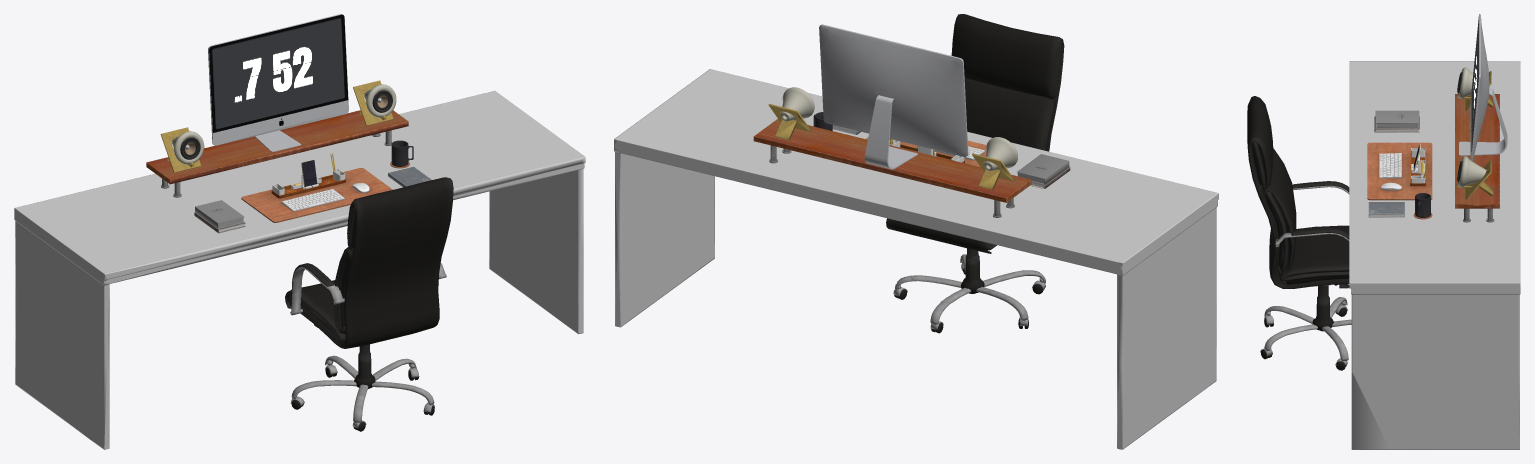
File: pc_desk_set.glb
3 renders of one model, left to right at view 1: azimuth 30°, elevation 25°; view 2: azimuth 150°, elevation 25°; view 3: azimuth 270°, elevation 25°, orthographic. The views are drawn at different scales.
Parts seen in each view (by area): view 1: Table, Chair, Display, Table_Top, Table_Desk, Speaker_01, Speaker_02, Book_03, Keyboard; view 2: Table, Chair, Display, Table_Top, Speaker_01, Speaker_02, Book_03; view 3: Table, Chair, Table_Top, Table_Desk, Display, Speaker_01, Book_03, Keyboard, Speaker_02, Book_01, Cup.
Boxes of the visible parts, bbox=[...] form: Table: bbox=[14, 91, 585, 449]; Chair: bbox=[285, 177, 453, 431]; Display: bbox=[208, 14, 348, 151]; Table_Top: bbox=[146, 110, 408, 184]; Table_Desk: bbox=[241, 168, 392, 222]; Speaker_01: bbox=[353, 80, 396, 125]; Speaker_02: bbox=[160, 127, 204, 172]; Book_03: bbox=[195, 200, 244, 228]; Keyboard: bbox=[281, 189, 344, 211]; Table: bbox=[614, 69, 1218, 449]; Chair: bbox=[886, 14, 1064, 333]; Display: bbox=[819, 24, 968, 169]; Table_Top: bbox=[753, 119, 1031, 202]; Speaker_01: bbox=[768, 87, 814, 140]; Speaker_02: bbox=[972, 137, 1017, 189]; Book_03: bbox=[1017, 154, 1069, 184]; Table: bbox=[1349, 61, 1520, 449]; Chair: bbox=[1247, 96, 1351, 370]; Table_Top: bbox=[1455, 94, 1499, 208]; Table_Desk: bbox=[1367, 142, 1432, 200]; Display: bbox=[1459, 14, 1507, 161]; Speaker_01: bbox=[1456, 156, 1493, 199]; Book_03: bbox=[1375, 110, 1419, 128]; Keyboard: bbox=[1379, 153, 1401, 178]; Speaker_02: bbox=[1456, 67, 1493, 110]; Book_01: bbox=[1368, 202, 1404, 217]; Cup: bbox=[1415, 193, 1430, 217].
Bounding box in the file's own units: 2.31 × 1.43 × 1.2.
Materials: 16 (16 with a texture image).
